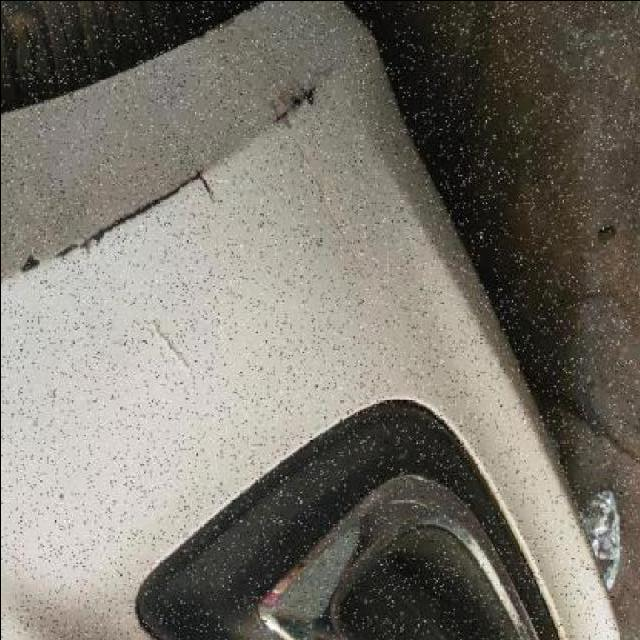front-bumper-dent: (2, 2, 427, 640)
